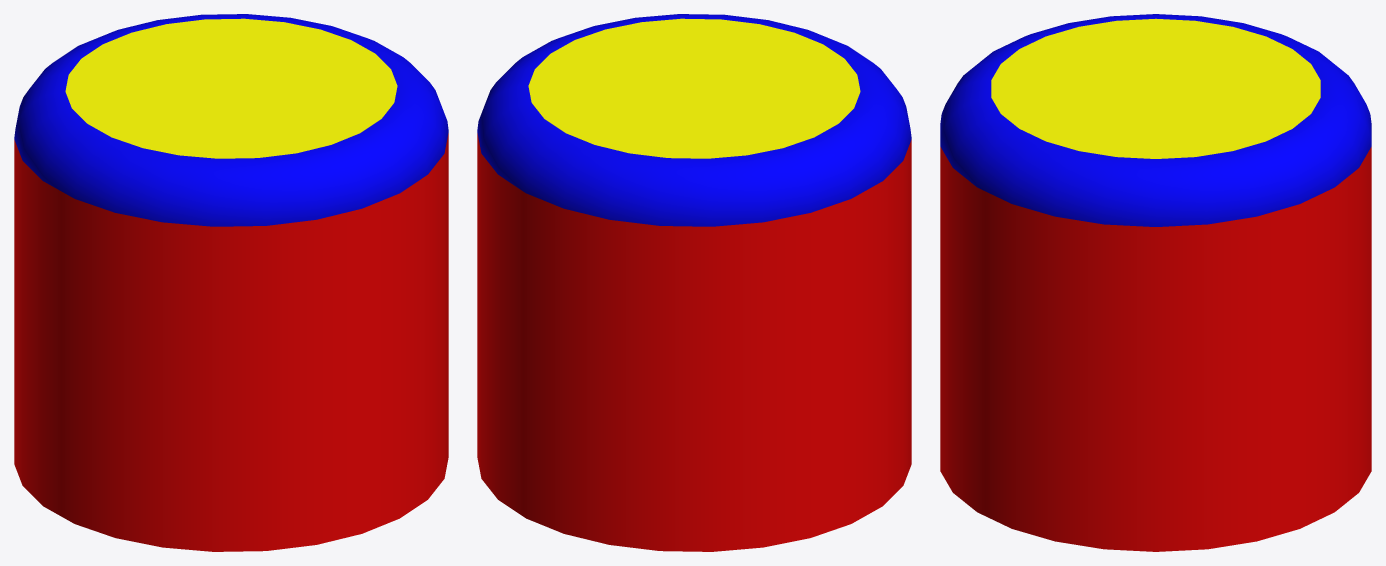
The model's file is vvv.glb.
3 renders of one model, left to right at view 1: azimuth 30°, elevation 25°; view 2: azimuth 150°, elevation 25°; view 3: azimuth 270°, elevation 25°, orthographic.
Parts seen in each view (by area): view 1: Part1; view 2: Part1; view 3: Part1.
Boxes of the visible parts, bbox=[...] form: Part1: bbox=[14, 14, 448, 551]; Part1: bbox=[477, 14, 911, 551]; Part1: bbox=[940, 14, 1371, 551].
Bounding box in the file's own units: 0.0849 × 0.08 × 0.0842.
